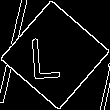L_N: (37, 29, 73, 81)
